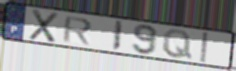9: (131, 23, 159, 57)
I: (111, 19, 125, 52), (200, 31, 211, 64)
Q: (162, 28, 194, 61)
R: (61, 15, 94, 46)
X: (28, 8, 61, 45)
